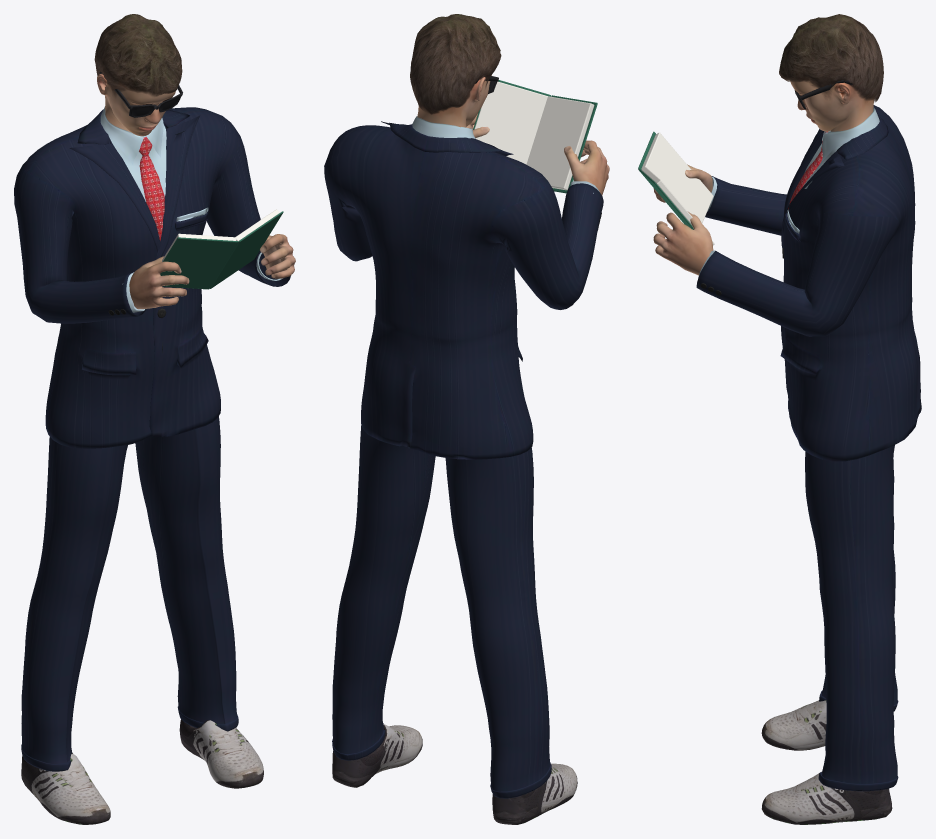
The model's file is founder.glb.
3 renders of one model, left to right at view 1: azimuth 30°, elevation 25°; view 2: azimuth 150°, elevation 25°; view 3: azimuth 270°, elevation 25°, orthographic.
Parts seen in each view (by area): view 1: Human.toigo_male_suit_3_baked, Human.shoes05_baked, Human.short02_baked, Human_baked, book_left_baked, book_right_baked, Human.spamrakuen_sagerfrogs_glasses_01_baked; view 2: Human.toigo_male_suit_3_baked, Human.short02_baked, Human.shoes05_baked, book_left_baked, book_right_baked, Human_baked; view 3: Human.toigo_male_suit_3_baked, Human.shoes05_baked, Human.short02_baked, Human_baked, book_left_baked, book_right_baked.
Boxes of the visible parts, left/top/right/bottom form: Human.toigo_male_suit_3_baked: left=14, top=107, right=290, bottom=771; Human.shoes05_baked: left=21, top=719, right=263, bottom=824; Human.short02_baked: left=94, top=14, right=182, bottom=96; Human_baked: left=97, top=73, right=295, bottom=309; book_left_baked: left=160, top=233, right=238, bottom=289; book_right_baked: left=210, top=209, right=283, bottom=288; Human.spamrakuen_sagerfrogs_glasses_01_baked: left=99, top=71, right=182, bottom=117; Human.toigo_male_suit_3_baked: left=324, top=116, right=603, bottom=798; Human.short02_baked: left=410, top=14, right=501, bottom=114; Human.shoes05_baked: left=332, top=724, right=577, bottom=824; book_left_baked: left=526, top=95, right=597, bottom=193; book_right_baked: left=473, top=80, right=550, bottom=164; Human_baked: left=417, top=75, right=609, bottom=195; Human.toigo_male_suit_3_baked: left=696, top=105, right=921, bottom=791; Human.shoes05_baked: left=761, top=700, right=892, bottom=824; Human.short02_baked: left=779, top=14, right=883, bottom=102; Human_baked: left=653, top=80, right=874, bottom=275; book_left_baked: left=638, top=131, right=713, bottom=223; book_right_baked: left=638, top=166, right=714, bottom=245.
Bounding box in the file's own units: 0.6443 × 1.99 × 0.673.
Materials: 10 (7 with a texture image).
